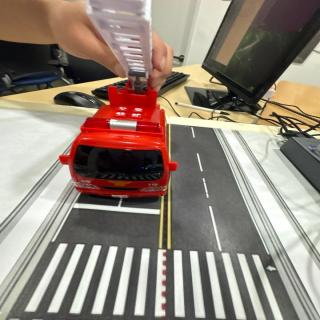Fire_truck: (60, 85, 177, 197)
